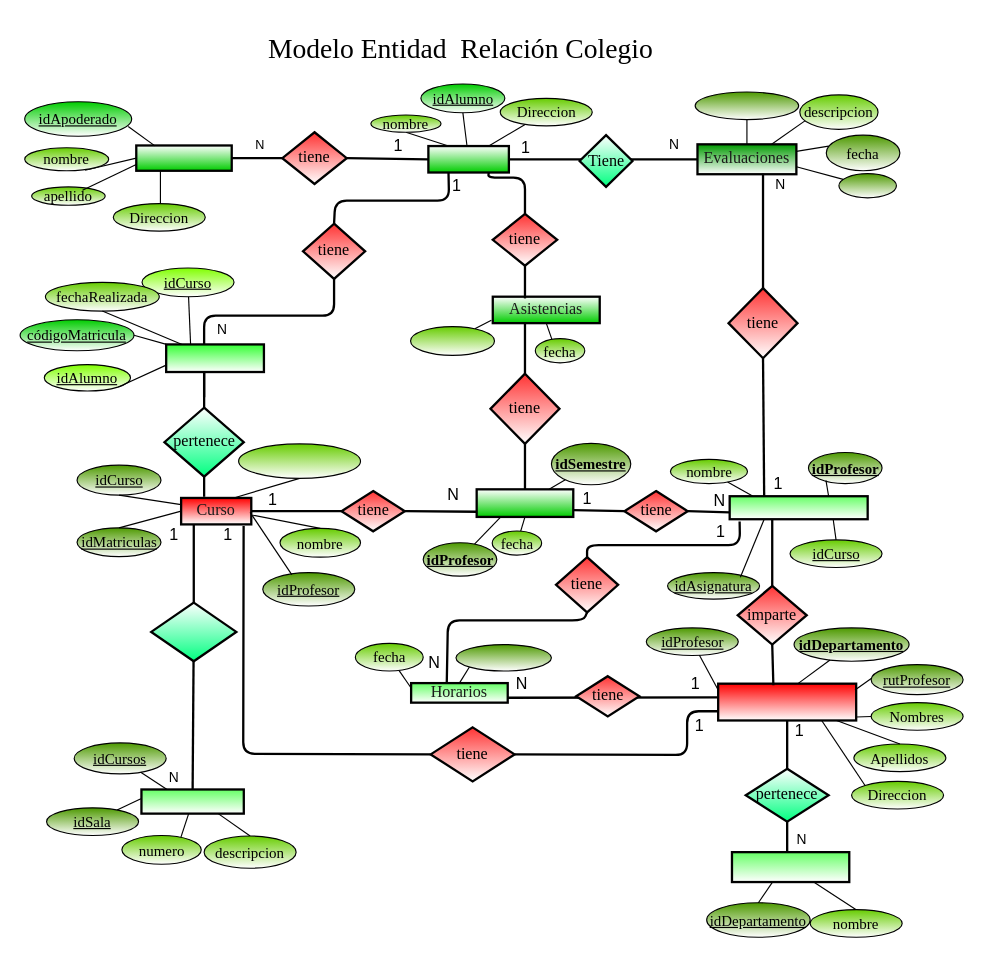
Some shapes in this 983 by 957 pixel diagram are drawn without their labels. Here are the shapes that lost their labels. From the top down, the centre of each, then its label:
the point at 746,105: idEvaluaciones
the point at 183,157: Apoderados
the point at 468,158: Alumnos
the point at 867,185: nota
the point at 214,358: Matriculas
the point at 451,340: idAsistencia
the point at 299,460: cantidadMatriculas
the point at 524,503: Semestres
the point at 798,507: Asignaturas
the point at 193,631: asignada
the point at 503,657: idHorarios
the point at 786,701: Profesores
the point at 192,801: Salas
the point at 790,866: Departamento
